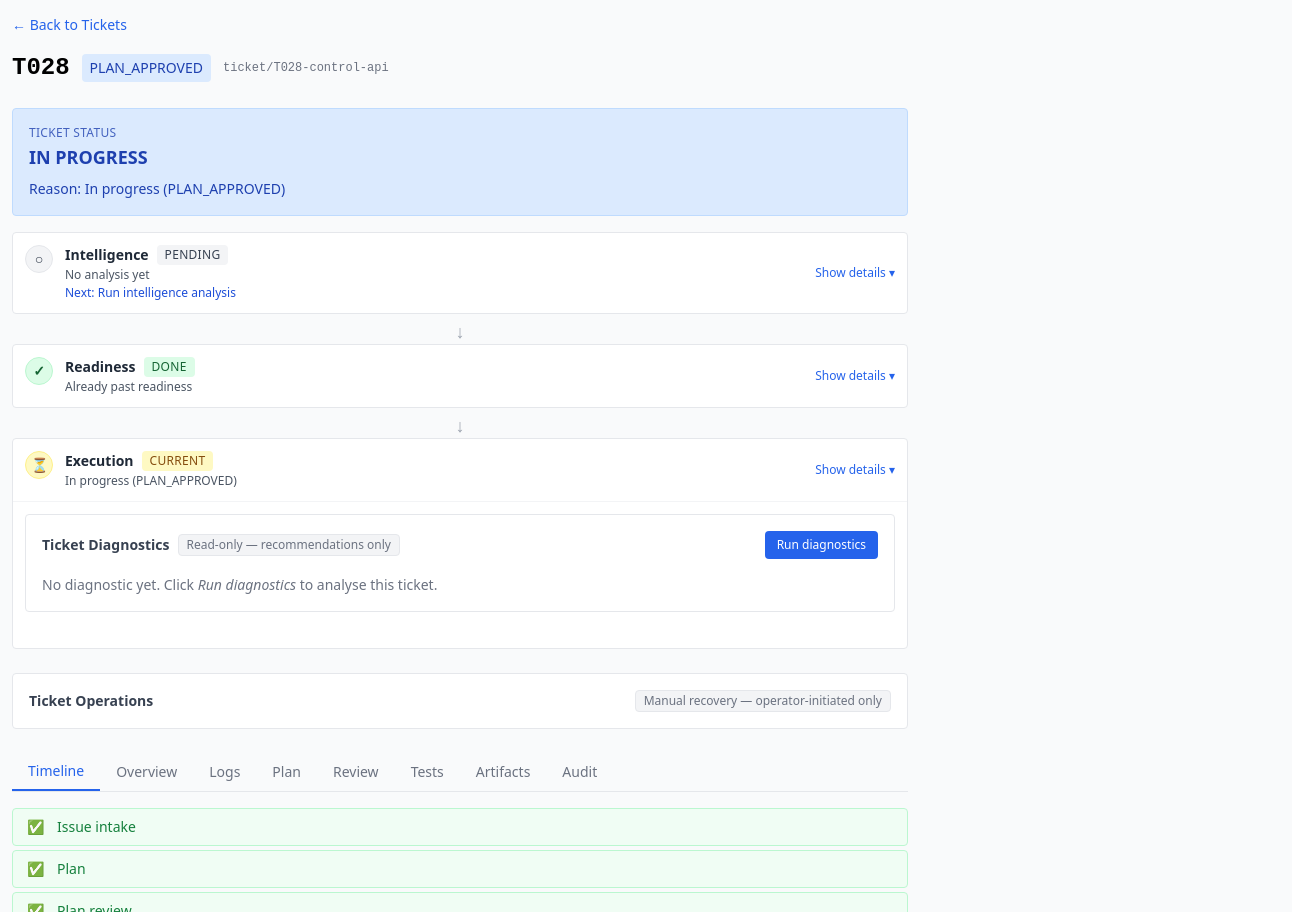
Test: TicketDetailPage › loads and displays artifacts when artifacts tab is clicked
Click the button "artifacts" at coordinates (503, 772), box [460, 753, 546, 791]
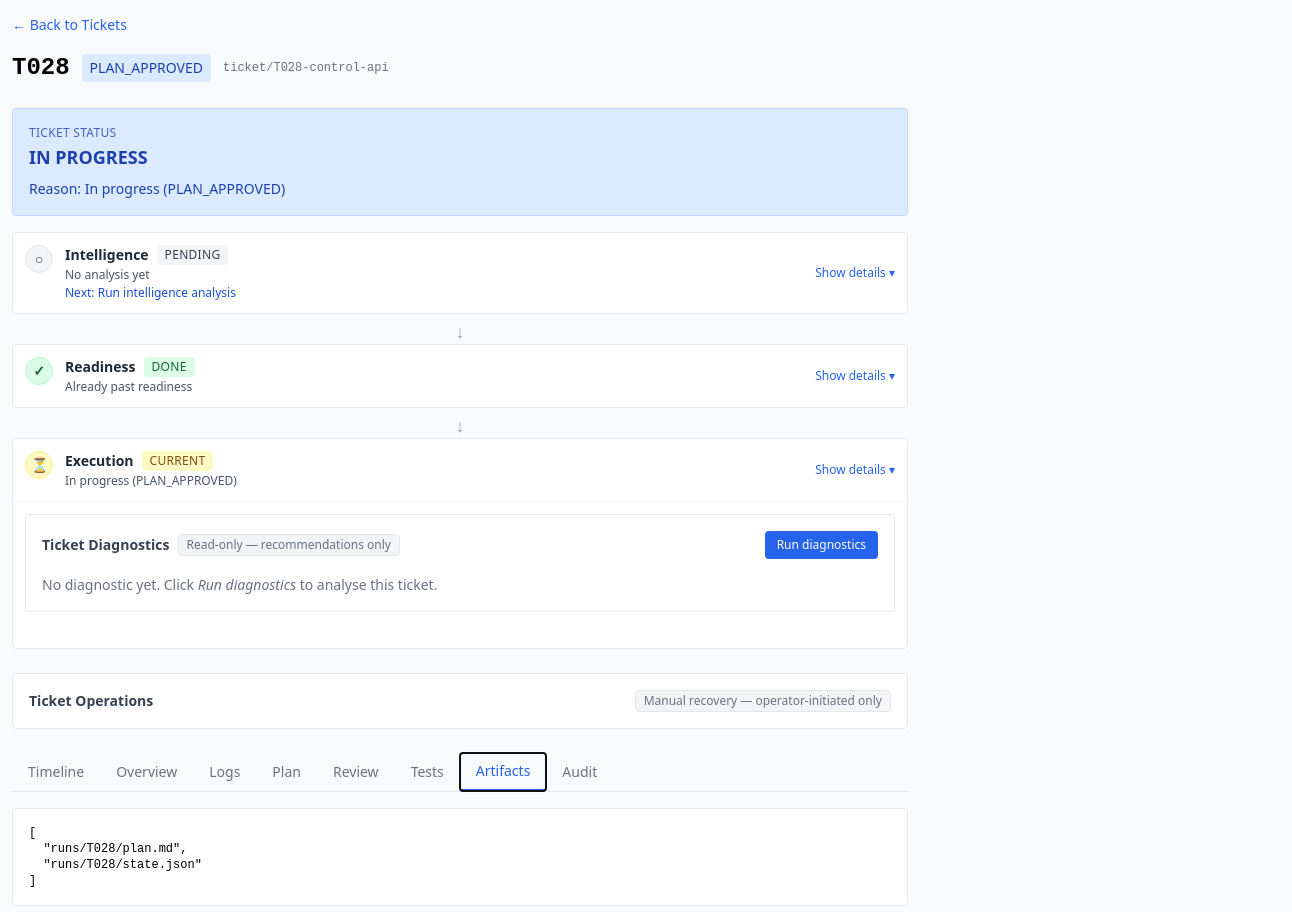
Result: the text "[ \"runs/T028/plan.md\", \"runs/T028/state.json\" ]" is shown at [12, 808, 908, 906]
